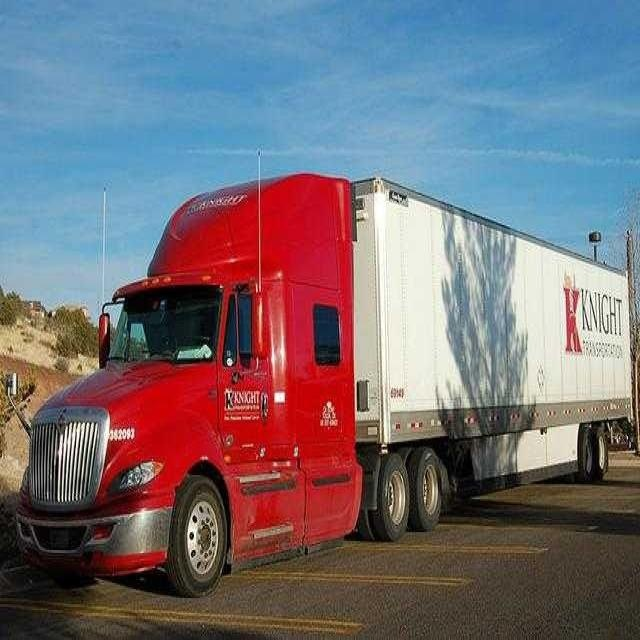Truck: (6, 156, 640, 603)
